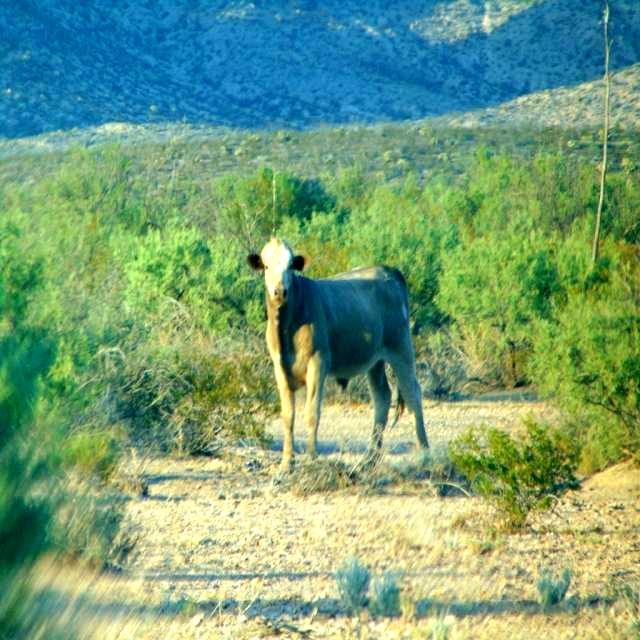COW: (248, 238, 429, 468)
